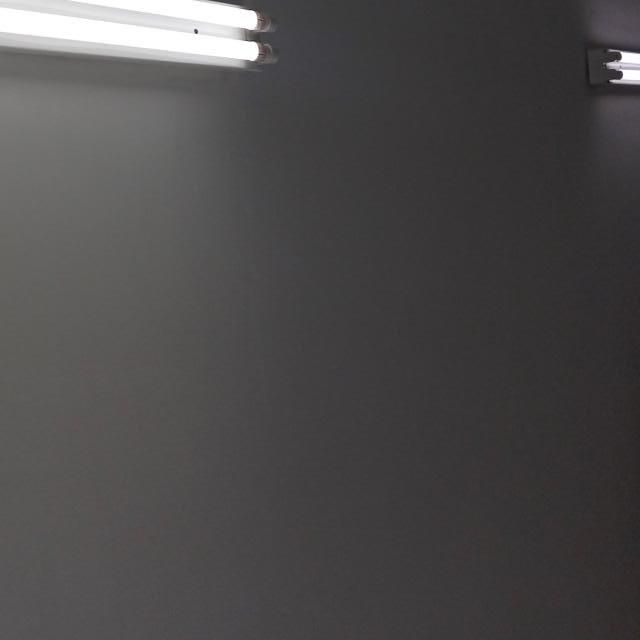fluorescent tube: (0, 0, 308, 107), (564, 0, 640, 125)
